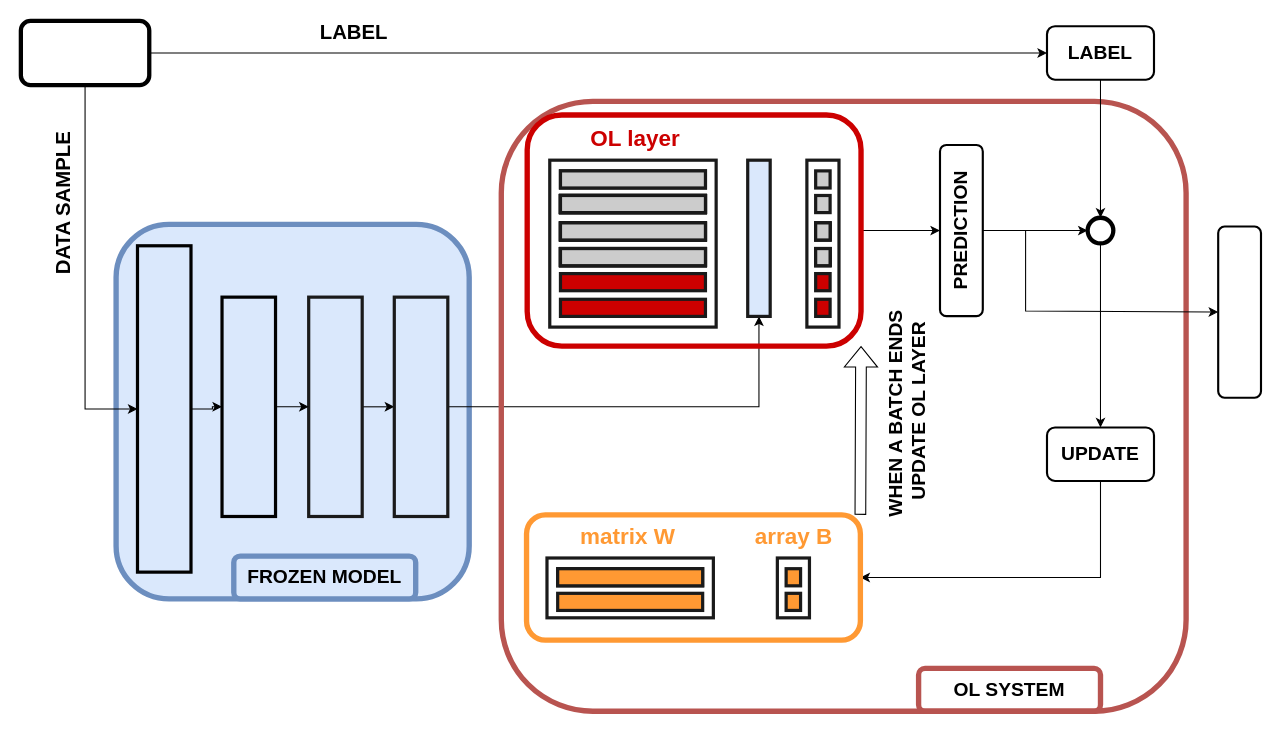
The diagram is 1280 pixels wide and 732 high, and some of its shapes have lost their labels. Here are the shapes that lost their labels. From the top down, the centre of each, then its label:
the point at 84,52: DATASET
the point at 758,237: x +
the point at 1239,311: OUTPUT
